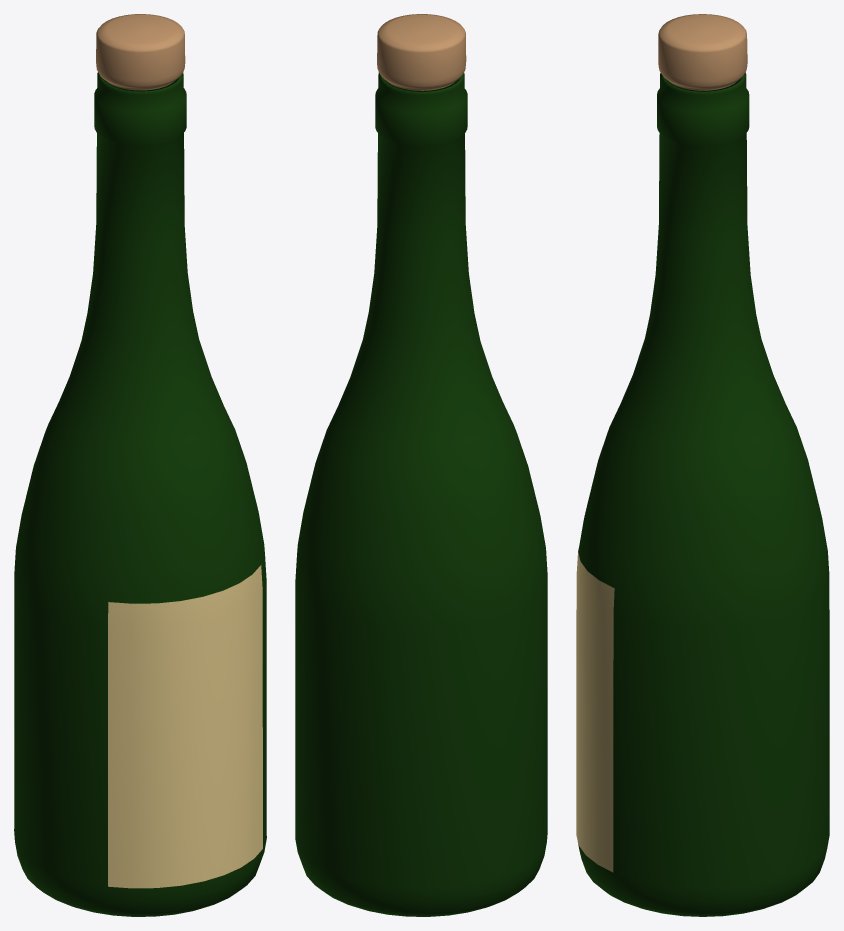
File: BotellaVerde.fbx
The picture shows the model from 3 angles, left to right: view 1: azimuth 30°, elevation 25°; view 2: azimuth 150°, elevation 25°; view 3: azimuth 270°, elevation 25°; orthographic projection.
Parts seen in each view (by area): view 1: Wine_Bottle_Red, Wine_Bottle_Red_Label, Wine_Bottle_Red_Cork; view 2: Wine_Bottle_Red, Wine_Bottle_Red_Cork; view 3: Wine_Bottle_Red, Wine_Bottle_Red_Label, Wine_Bottle_Red_Cork.
Part boxes in pixels (x1,y1,x2,y2): Wine_Bottle_Red: (14, 72, 266, 916); Wine_Bottle_Red_Label: (108, 565, 262, 888); Wine_Bottle_Red_Cork: (96, 14, 185, 90); Wine_Bottle_Red: (295, 72, 547, 916); Wine_Bottle_Red_Cork: (377, 14, 466, 90); Wine_Bottle_Red: (577, 72, 829, 916); Wine_Bottle_Red_Label: (576, 549, 614, 872); Wine_Bottle_Red_Cork: (658, 14, 747, 90).
Size of the model in its own units: 8.62 by 31.75 by 8.63.
